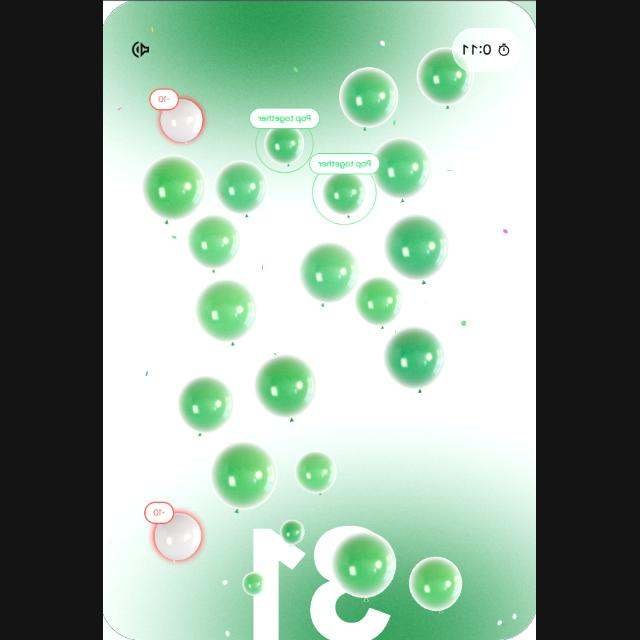hazard: (142, 496, 208, 566), (149, 89, 211, 147)
safe: (332, 64, 406, 134), (213, 442, 279, 511), (332, 530, 398, 598), (254, 352, 318, 418), (386, 214, 450, 278), (300, 241, 362, 305), (144, 155, 206, 219), (384, 326, 448, 388), (196, 279, 258, 343), (416, 46, 472, 114), (373, 136, 433, 198), (180, 374, 237, 434), (188, 214, 242, 270), (410, 556, 464, 612), (215, 159, 269, 213), (355, 276, 405, 326), (296, 450, 338, 494), (281, 520, 305, 546), (243, 572, 267, 596)
safe-pair: (310, 148, 382, 226), (248, 104, 320, 178)
